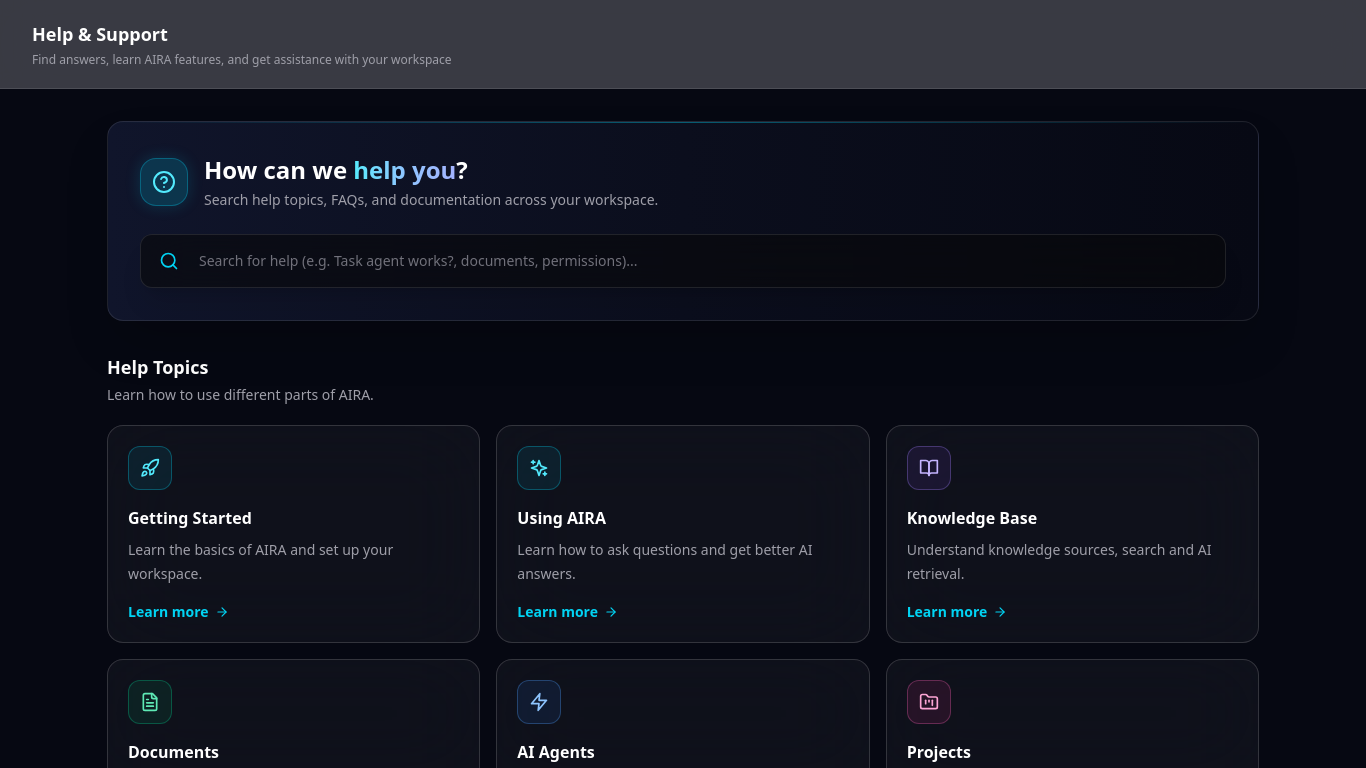
Test: HelpPage › Search Functionality › clears search query and restores all topics when clicking 'Clear search'
Replace the text in the field named "Search help topics" with "nonexistenttopicxyz999" at (703, 261), box [191,245,1215,277]
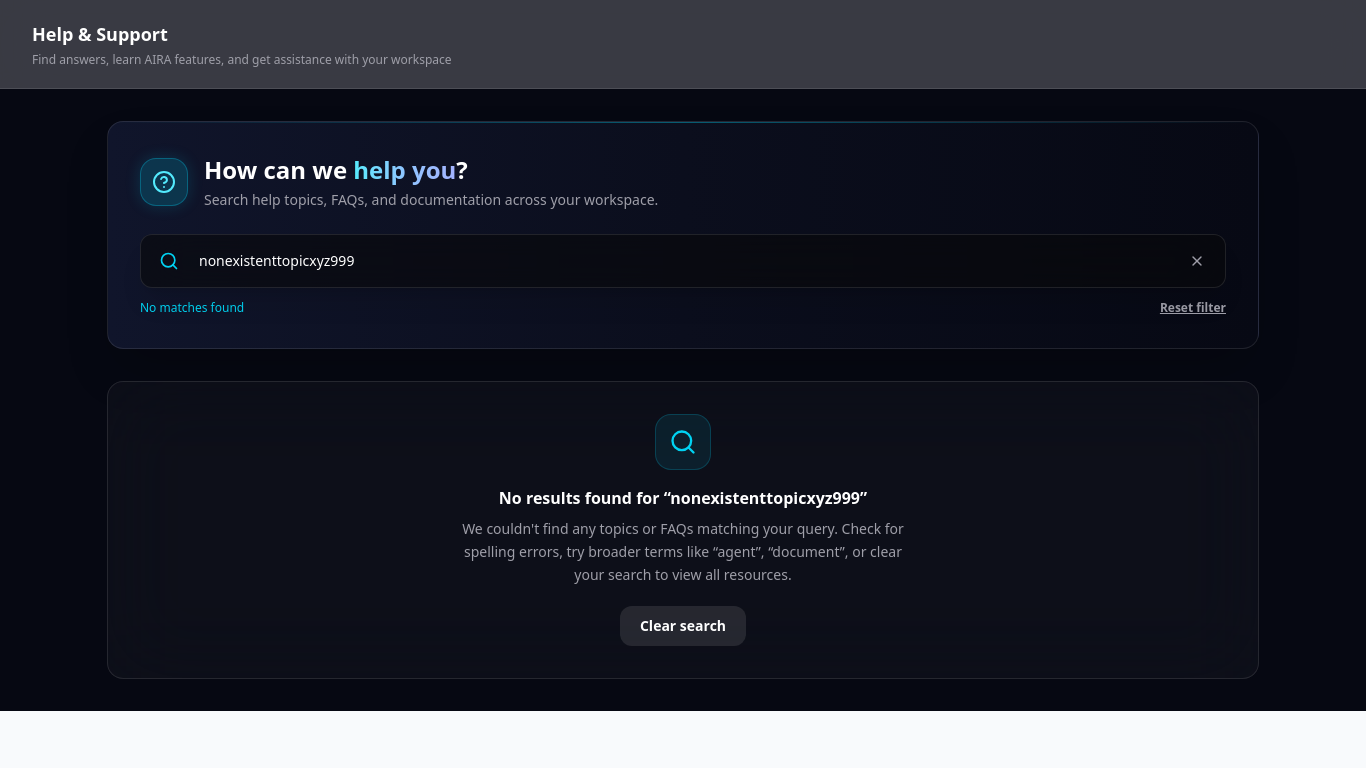
Click the button "Clear search" at (683, 626), box [620,606,746,646]
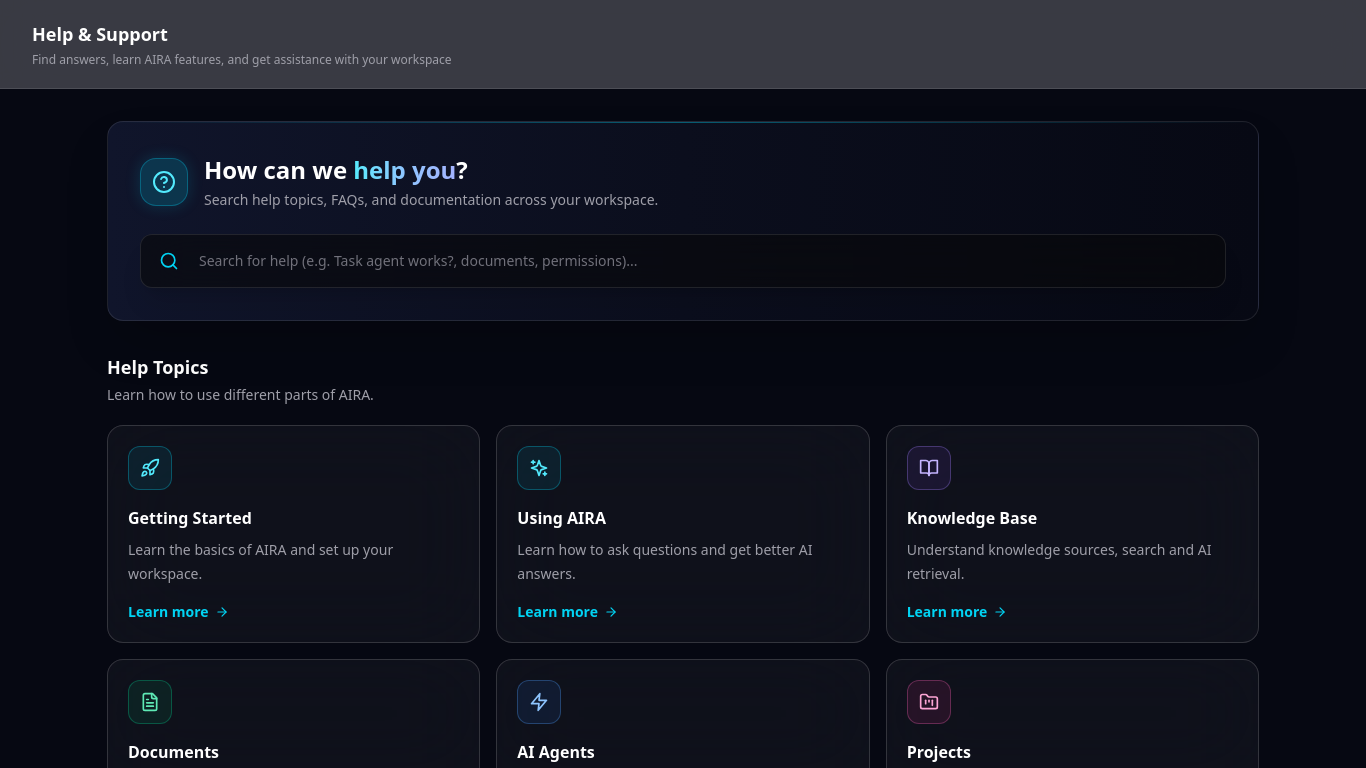
Expected: the heading "Getting Started" is shown, [128,507,252,529]
Expected: the heading "AI Agents" is shown, [517,741,595,763]
Expected: the heading "Projects" is shown, [907,741,971,763]
